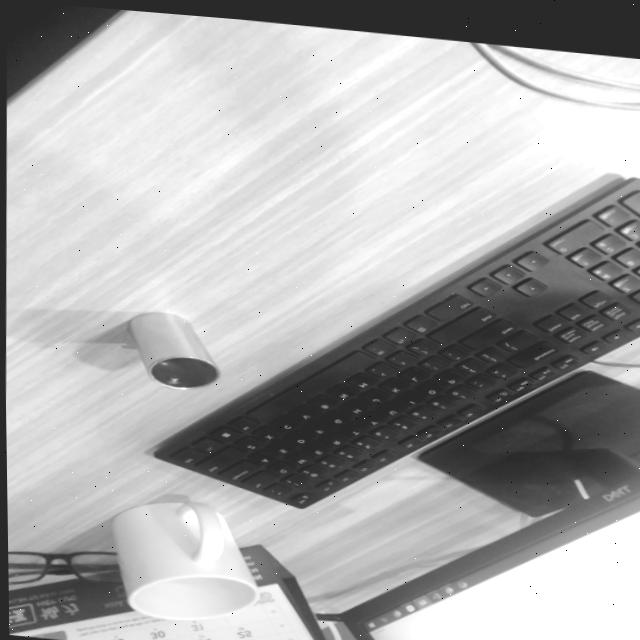Co_Lon: (118, 292, 222, 408)
